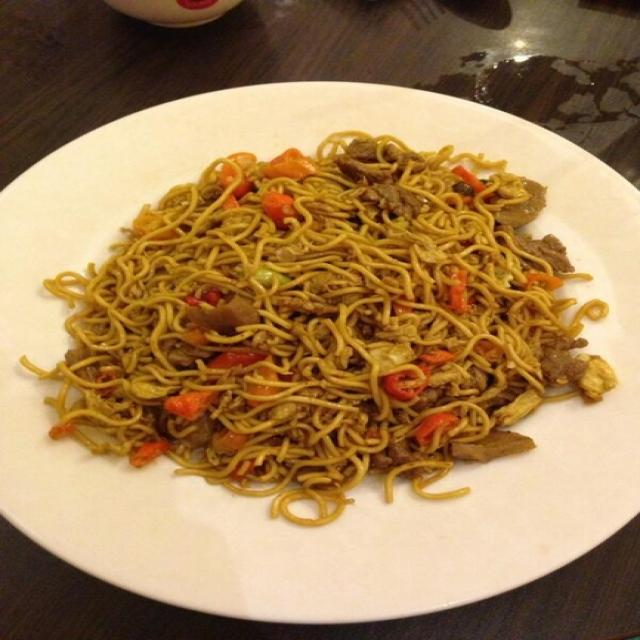面条主食: (57, 114, 598, 519)
